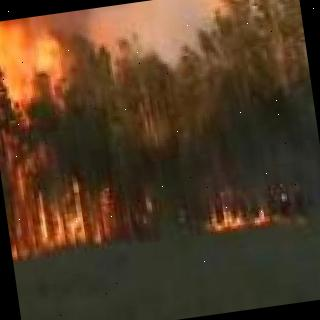fire: (0, 9, 114, 259), (197, 190, 292, 236)
